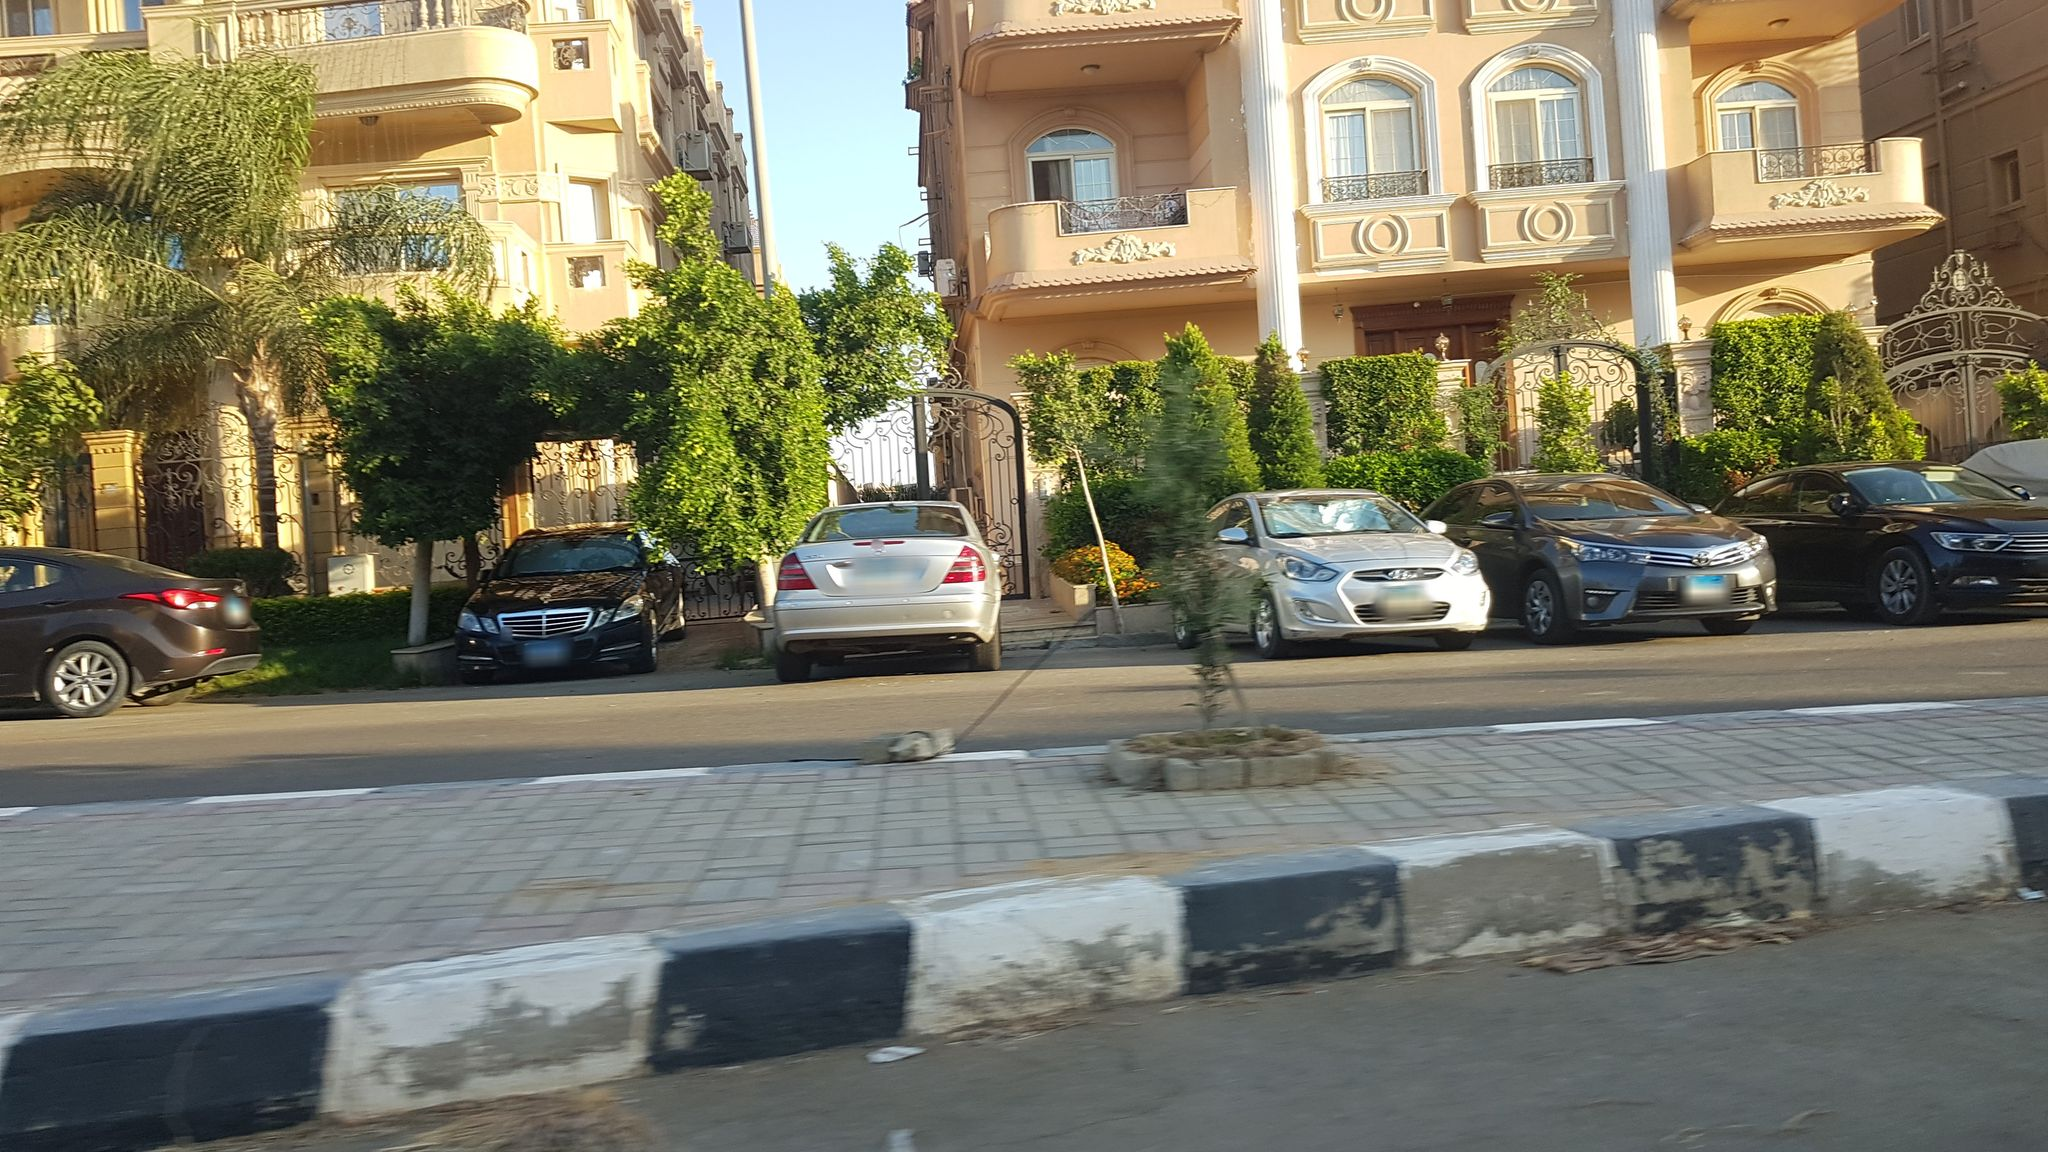car: (1415, 470, 1778, 639), (1713, 456, 2048, 623), (1169, 487, 1492, 654), (0, 542, 266, 715), (769, 499, 1006, 672), (452, 519, 689, 675)
